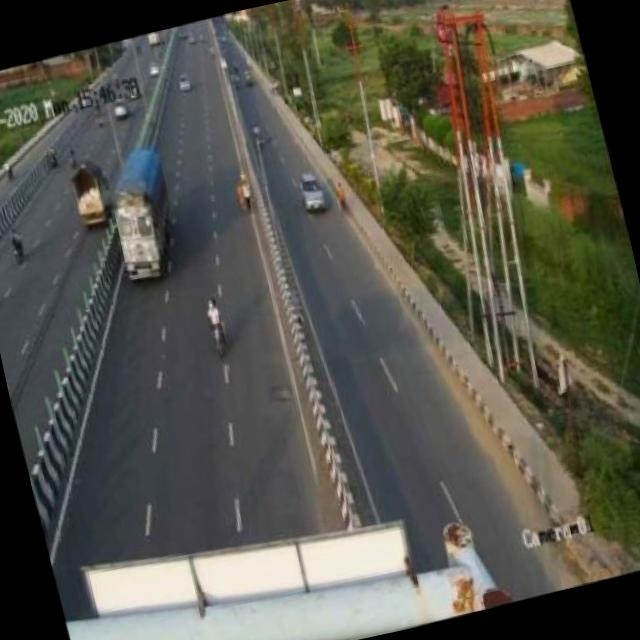car: (295, 169, 330, 218)
